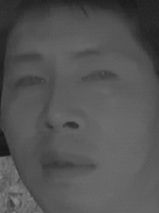eye: (79, 61, 119, 88), (12, 69, 49, 92)
mouth: (37, 147, 99, 186)
